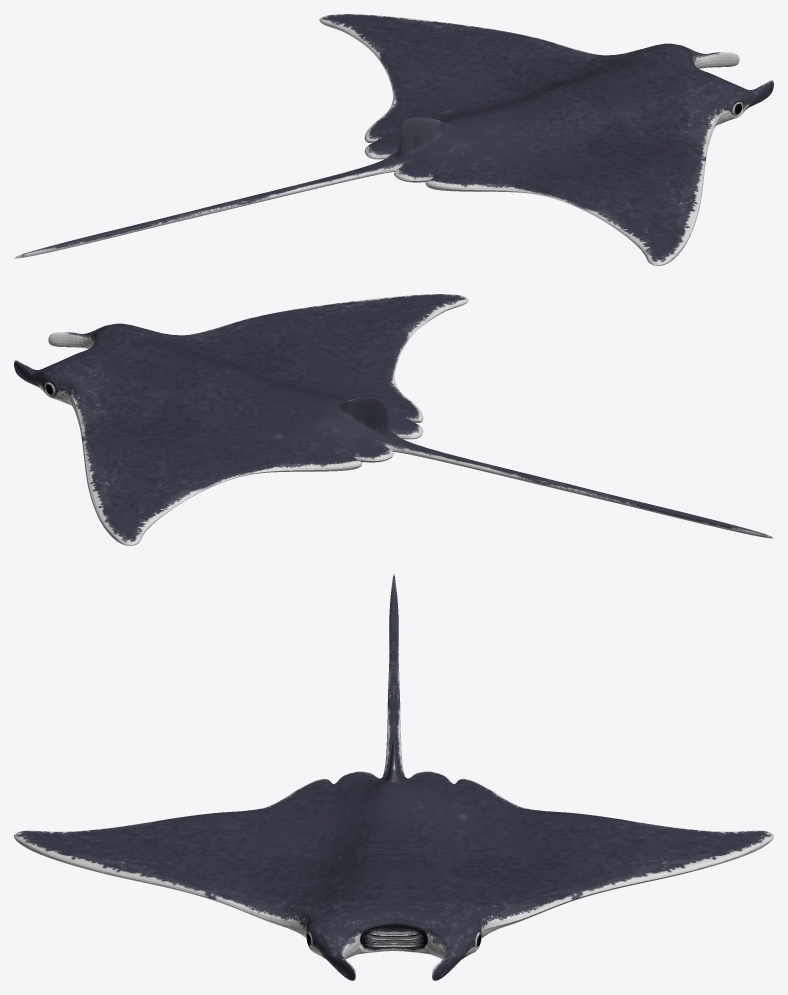
File: manta.glb
The picture shows the model from 3 angles, top to bottom: view 1: azimuth 30°, elevation 25°; view 2: azimuth 150°, elevation 25°; view 3: azimuth 270°, elevation 25°; orthographic projection. The views are drawn at different scales.
Visible parts, largest first — view 1: manta; view 2: manta; view 3: manta.
Boxes of the visible parts, x1,y1,x2,y2 form: manta: (14, 14, 773, 265); manta: (14, 294, 773, 545); manta: (14, 574, 773, 980).
Size of the model in its own units: 1 by 0.0799 by 0.7895.
1 material, 1 textured.
